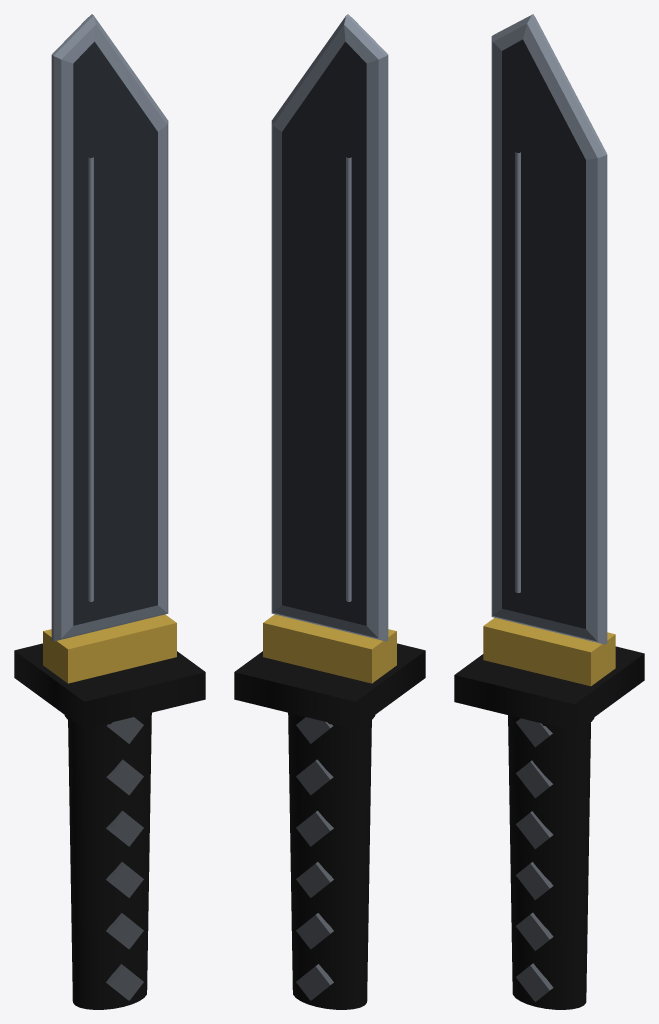
The model's file is 13_Uncommon_Night_Tanto.glb.
3 views of the same model, side by side, from view 1: azimuth 30°, elevation 25°; view 2: azimuth 150°, elevation 25°; view 3: azimuth 330°, elevation 25° (orthographic).
Visible parts, largest first — view 1: blade_2, handle_4, tsuba_0, habaki_1, blade_inlay_19, handle_wrap_16, handle_wrap_14, handle_wrap_12, handle_wrap_10, handle_wrap_8, handle_wrap_6; view 2: blade_2, handle_4, tsuba_0, habaki_1, blade_inlay_18, handle_wrap_15, handle_wrap_13, handle_wrap_11, handle_wrap_9, handle_wrap_7, handle_wrap_5; view 3: blade_2, handle_4, tsuba_0, habaki_1, blade_inlay_19, handle_wrap_16, handle_wrap_14, handle_wrap_12, handle_wrap_10, handle_wrap_8, handle_wrap_6.
Part boxes in pixels (x1,y1,x2,y2): blade_2: (51, 14, 168, 641); handle_4: (68, 712, 151, 1009); tsuba_0: (14, 643, 205, 728); habaki_1: (43, 614, 176, 683); blade_inlay_19: (88, 157, 93, 601); handle_wrap_16: (106, 964, 143, 1000); handle_wrap_14: (106, 913, 143, 949); handle_wrap_12: (106, 862, 143, 897); handle_wrap_10: (106, 810, 143, 846); handle_wrap_8: (106, 759, 143, 795); handle_wrap_6: (107, 717, 143, 743); blade_2: (271, 14, 388, 641); handle_4: (288, 712, 371, 1009); tsuba_0: (234, 643, 425, 728); habaki_1: (263, 614, 396, 683); blade_inlay_18: (346, 157, 351, 601); handle_wrap_15: (296, 964, 333, 1000); handle_wrap_13: (296, 913, 333, 949); handle_wrap_11: (296, 862, 333, 897); handle_wrap_9: (296, 810, 333, 846); handle_wrap_7: (296, 759, 333, 795); handle_wrap_5: (296, 717, 332, 743); blade_2: (491, 14, 607, 644); handle_4: (508, 715, 590, 1009); tsuba_0: (454, 646, 644, 731); habaki_1: (483, 617, 615, 686); blade_inlay_19: (515, 152, 520, 592); handle_wrap_16: (516, 963, 553, 1001); handle_wrap_14: (516, 912, 553, 950); handle_wrap_12: (516, 862, 553, 900); handle_wrap_10: (516, 811, 553, 849); handle_wrap_8: (516, 760, 552, 798); handle_wrap_6: (516, 718, 552, 747).
Bounding box in the file's own units: 0.0742 × 0.576 × 0.0742.
9 materials, 9 textured.
